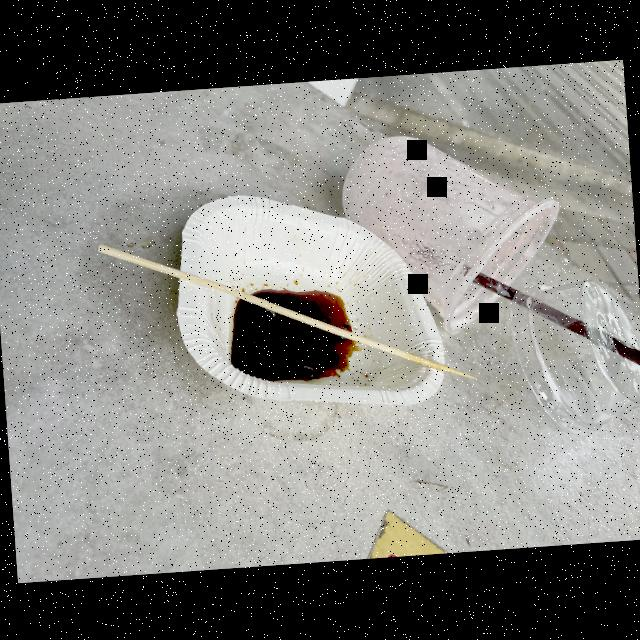cardboard_bowl: (161, 170, 457, 413)
plastic_cup: (338, 118, 570, 338)
plastic_cup_lid: (503, 259, 640, 468)
stick: (79, 235, 487, 401)
straw: (455, 261, 640, 377)
